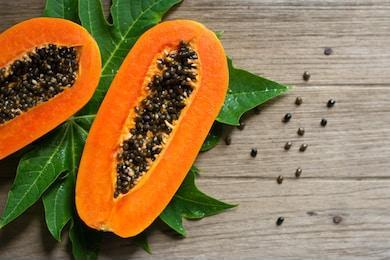papaya: (72, 19, 230, 235), (3, 17, 102, 161)
